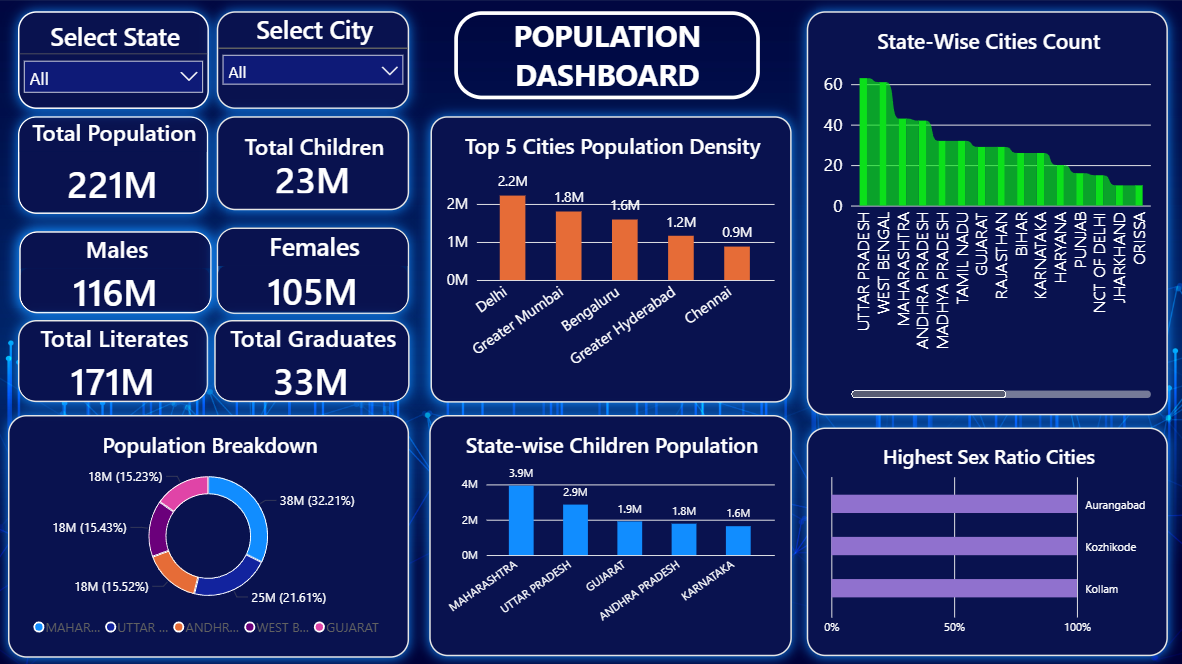

What the dashboard file says about the page in this screenshot:
{"tool":"powerbi","page":{"name":"Page 1","canvas":[1280,720],"ordinal":0},"visuals":[{"type":"cardVisual","title":"Total Population","fields":{"Data":["Sum(cities_r2.population_total)"]},"box":[21.6,125.7,205.4,105.4],"z":0},{"type":"textbox","box":[493.4,12.1,330.6,95.3],"z":1000},{"type":"cardVisual","title":"Males","fields":{"Data":["Sum(cities_r2.population_male)"]},"box":[23,250,208.1,89.2],"z":2000},{"type":"cardVisual","title":"Females","fields":{"Data":["Sum(cities_r2.population_female)"]},"box":[236.5,245.9,208.1,93.2],"z":3000},{"type":"clusteredColumnChart","title":"Top 5 Cities Population Density","fields":{"Category":["cities_r2.name_of_city"],"Y":["Sum(cities_r2.total_graduates)"]},"box":[467.6,125.7,390.5,309.5],"z":4000},{"type":"slicer","title":"Select State","fields":{"Values":["cities_r2.state_name"]},"box":[21.6,12.2,206.8,105.4],"z":5000},{"type":"donutChart","title":"Population Breakdown","fields":{"Category":["cities_r2.state_name"],"Y":["Sum(cities_r2.population_total)"]},"box":[10.8,448.6,433.8,262.2],"z":6000},{"type":"columnChart","title":"State-wise Children Population","fields":{"Category":["cities_r2.state_name"],"Y":["Sum(cities_r2.0-6_population_total)"]},"box":[466.2,448.6,391.9,260.8],"z":7000},{"type":"cardVisual","title":"Total Literates","fields":{"Data":["Sum(cities_r2.literates_total)"]},"box":[21.6,345.9,205.4,89.2],"z":8000},{"type":"cardVisual","title":"Total Graduates","fields":{"Data":["Sum(cities_r2.total_graduates)"]},"box":[233.8,345.9,210.8,89.2],"z":9000},{"type":"ribbonChart","title":"State-Wise Cities Count ","fields":{"Category":["cities_r2.state_name"],"Y":["CountNonNull(cities_r2.name_of_city)"]},"box":[874.3,12.2,390.5,436.5],"z":10000},{"type":"barChart","title":"Highest Sex Ratio Cities","fields":{"Category":["cities_r2.name_of_city"],"Y":["Sum(cities_r2.sex_ratio)"]},"box":[874.3,462.2,390.5,247.3],"z":11000},{"type":"slicer","title":"Select City","fields":{"Values":["cities_r2.name_of_city"]},"box":[237.5,19.9,208.1,105.4],"z":11002},{"type":"card","title":"Total Children","fields":{"Values":["Sum(cities_r2.0-6_population_total)"]},"box":[233.2,125.2,208.1,101.4],"z":11003}]}

Visuals, with their boxes in screenshot pixels (x1, y1, x2, y2), scaled from the page's 1280x720 canvas onto the 1182x664 screenshot:
"Total Population" cardVisual: pyautogui.locateOnScreen(20, 116, 210, 213)
textbox: pyautogui.locateOnScreen(456, 11, 761, 99)
"Males" cardVisual: pyautogui.locateOnScreen(21, 231, 213, 313)
"Females" cardVisual: pyautogui.locateOnScreen(218, 227, 411, 313)
"Top 5 Cities Population Density" clusteredColumnChart: pyautogui.locateOnScreen(432, 116, 792, 401)
"Select State" slicer: pyautogui.locateOnScreen(20, 11, 211, 108)
"Population Breakdown" donutChart: pyautogui.locateOnScreen(10, 414, 411, 656)
"State-wise Children Population" columnChart: pyautogui.locateOnScreen(431, 414, 792, 654)
"Total Literates" cardVisual: pyautogui.locateOnScreen(20, 319, 210, 401)
"Total Graduates" cardVisual: pyautogui.locateOnScreen(216, 319, 411, 401)
"State-Wise Cities Count " ribbonChart: pyautogui.locateOnScreen(807, 11, 1168, 414)
"Highest Sex Ratio Cities" barChart: pyautogui.locateOnScreen(807, 426, 1168, 654)
"Select City" slicer: pyautogui.locateOnScreen(219, 18, 411, 116)
"Total Children" card: pyautogui.locateOnScreen(215, 115, 408, 209)
